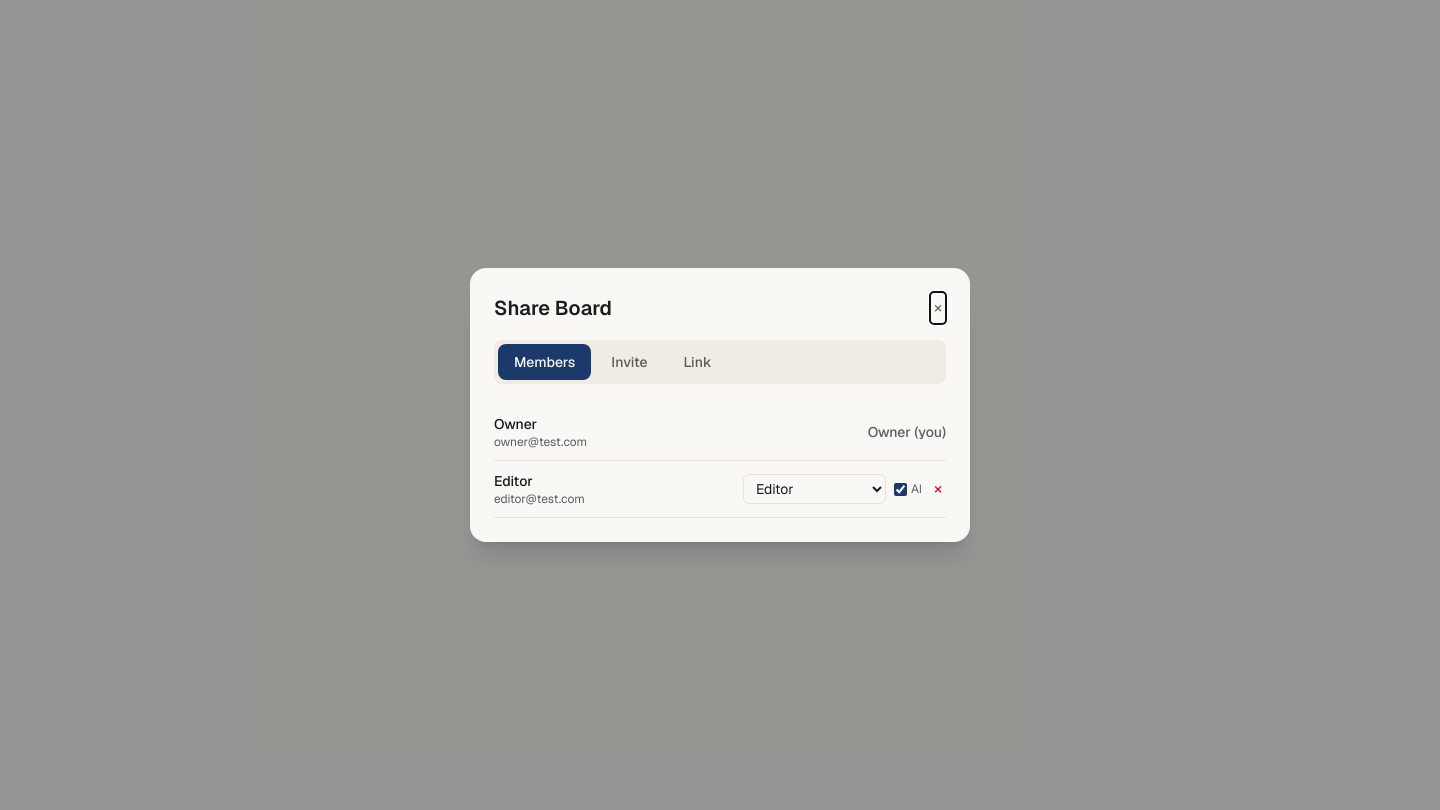
Test: ShareDialog › invite form shows error when invite fails
Check: the heading "Share Board" is shown, box [494,294,612,322]
Click the button "Invite": (629, 362) [595,344,664,380]
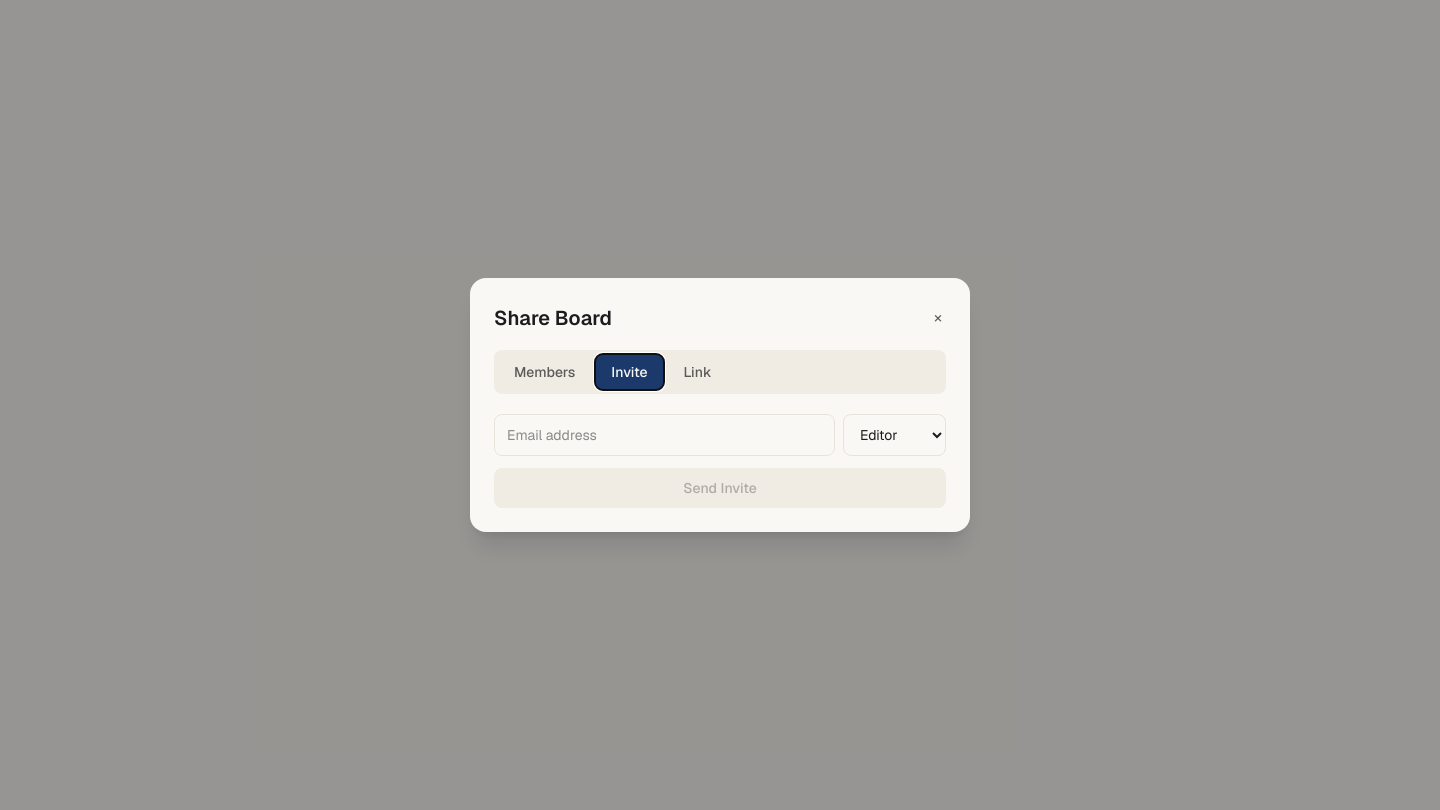
In the field with placeholder "Email address": (664, 435) [494,414,835,456], type "bad@email"
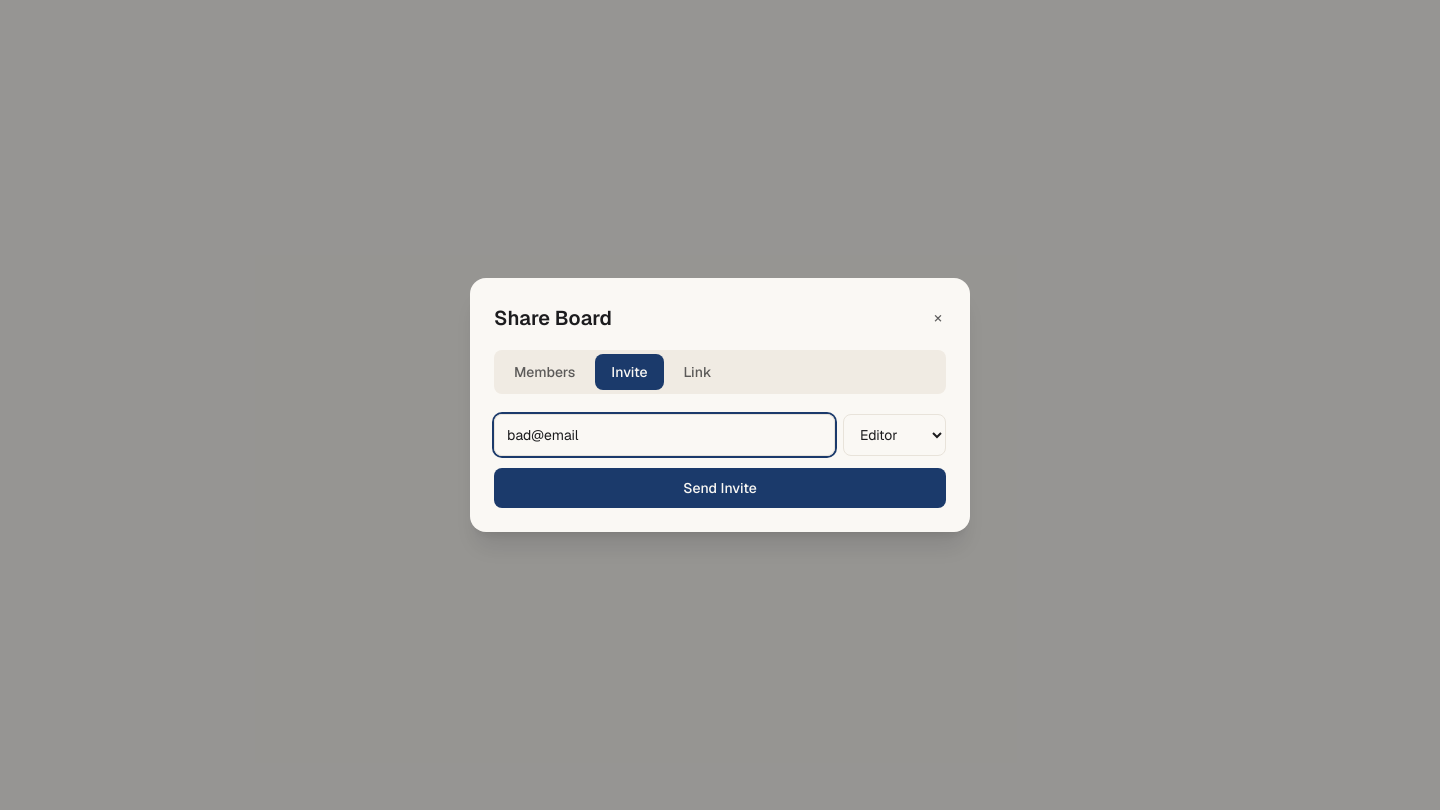
Click the button "Send Invite": (720, 488) [494,468,946,508]
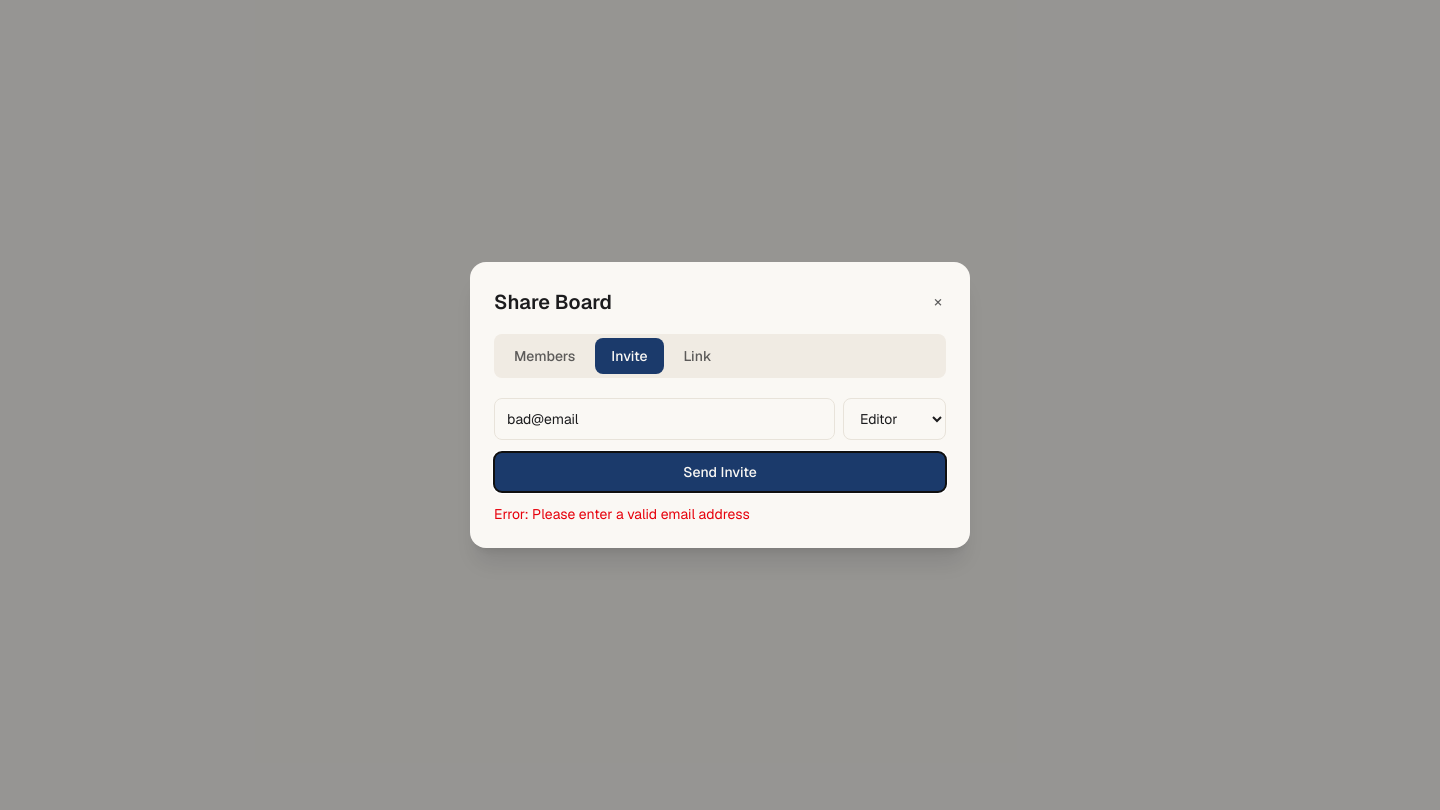
Check: the text "Error: Please enter a valid email address" is shown, box [494,505,750,523]
